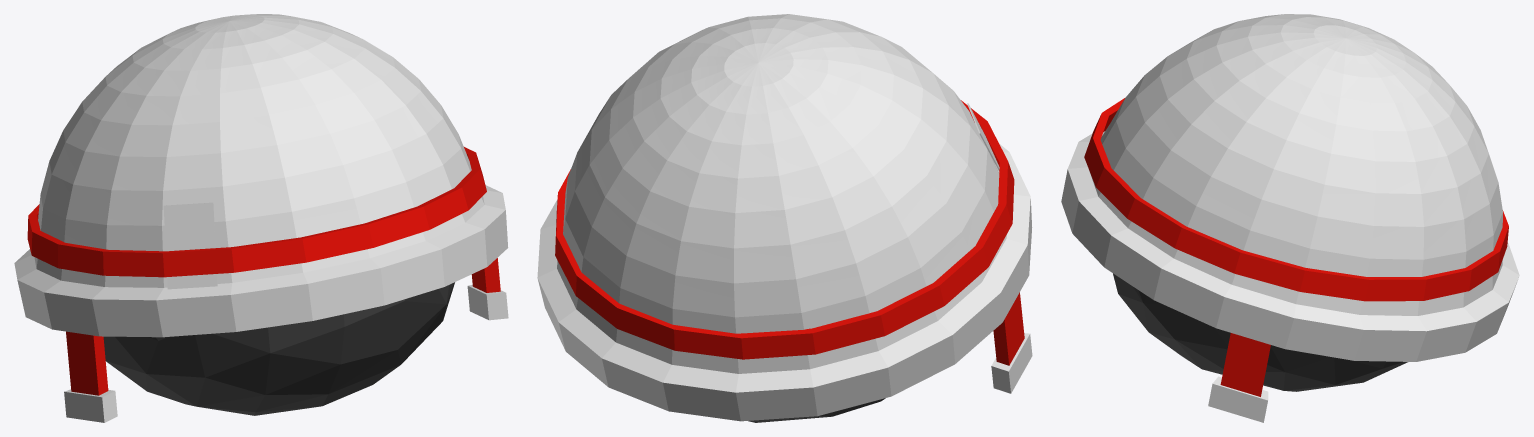
Rendered from FixedMetalhead.fbx.
The picture shows the model from 3 angles, left to right: view 1: azimuth 30°, elevation 25°; view 2: azimuth 150°, elevation 25°; view 3: azimuth 270°, elevation 25°; orthographic projection. The views are drawn at different scales.
Visible parts, largest first — view 1: MetalHead, Metal_LiteralHead; view 2: MetalHead; view 3: MetalHead, Metal_LiteralHead.
Part boxes in pixels (bbox=[...]): MetalHead: bbox=[14, 14, 508, 422]; Metal_LiteralHead: bbox=[103, 282, 454, 415]; MetalHead: bbox=[537, 14, 1032, 421]; MetalHead: bbox=[1061, 14, 1519, 422]; Metal_LiteralHead: bbox=[1113, 273, 1407, 391].
Bounding box in the file's own units: 465 × 369 × 456.
